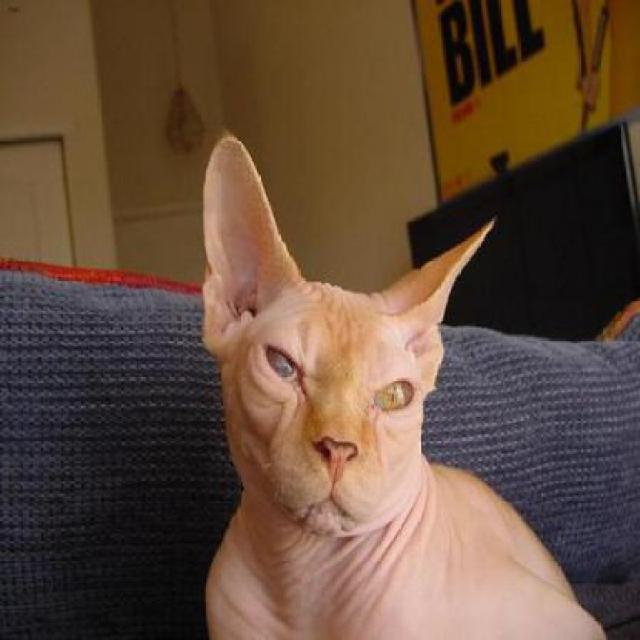cat: (201, 131, 608, 638)
